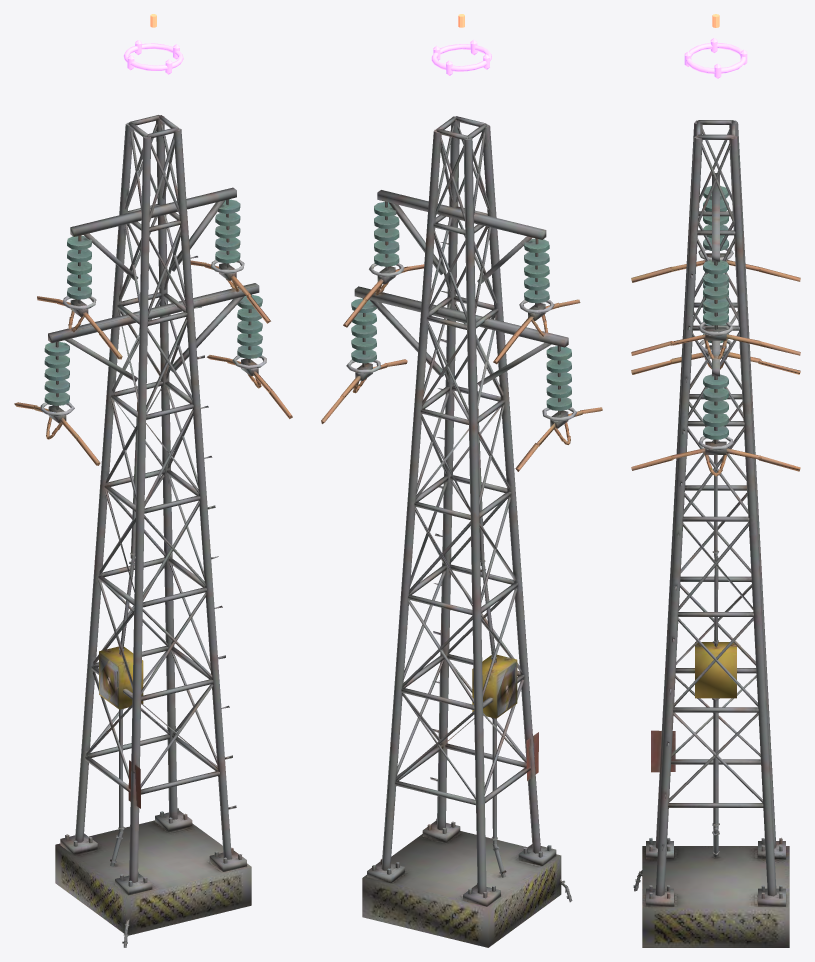
The model's file is poste_alto.glb.
3 renders of one model, left to right at view 1: azimuth 30°, elevation 25°; view 2: azimuth 150°, elevation 25°; view 3: azimuth 270°, elevation 25°, orthographic. The views are drawn at different scales.
Visible parts, largest first — view 1: poste_alto_corpo, anel_ressonancia; view 2: poste_alto_corpo, anel_ressonancia; view 3: poste_alto_corpo, anel_ressonancia.
Boxes of the visible parts, left/top/right/bottom form: poste_alto_corpo: left=14, top=115, right=292, bottom=947; anel_ressonancia: left=123, top=40, right=183, bottom=74; poste_alto_corpo: left=321, top=116, right=602, bottom=947; anel_ressonancia: left=431, top=39, right=491, bottom=75; poste_alto_corpo: left=631, top=120, right=800, bottom=947; anel_ressonancia: left=684, top=38, right=747, bottom=78.
Bounding box in the file's own units: 1.5 × 5.72 × 0.9682.
3 materials, 1 textured.
